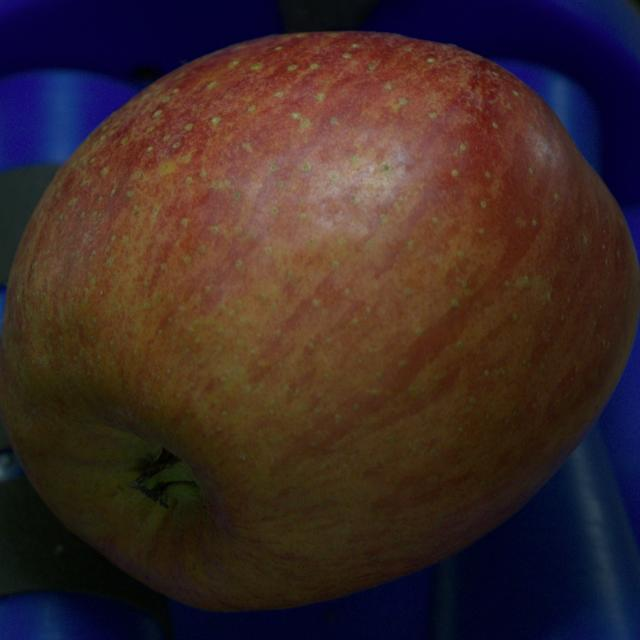apple: (0, 32, 639, 610)
